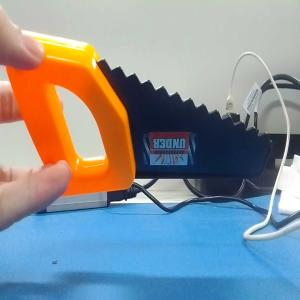serrote: (5, 28, 274, 198)
